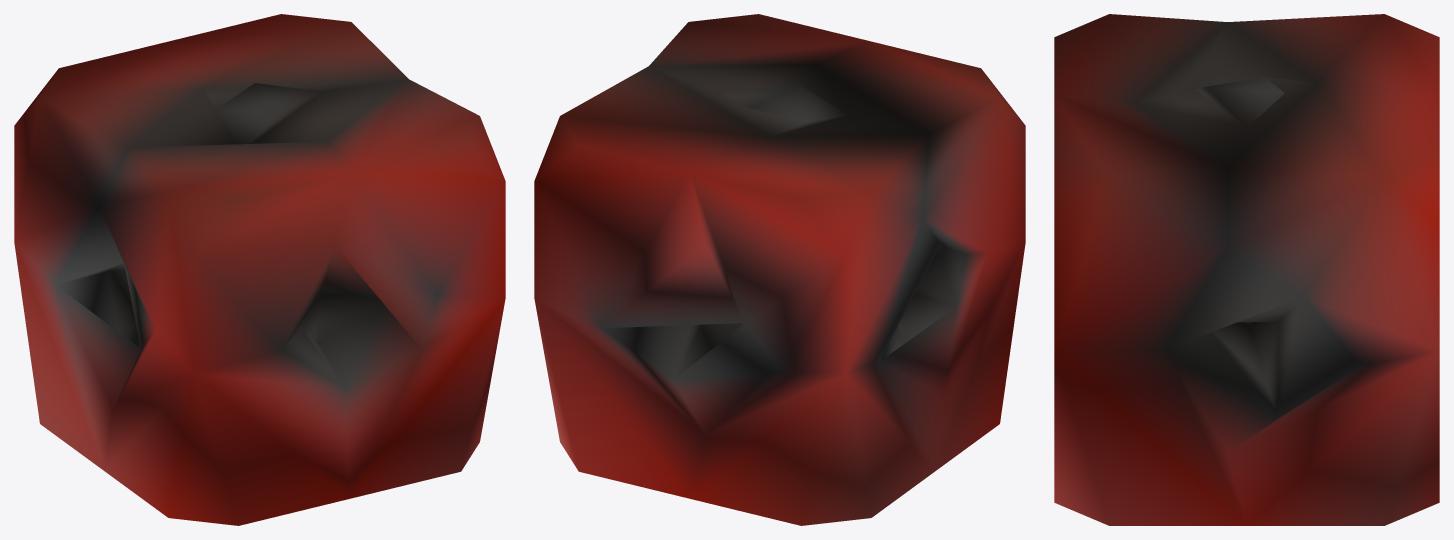
The model's file is solar_box_lod6.glb.
The picture shows the model from 3 angles, left to right: view 1: azimuth 30°, elevation 25°; view 2: azimuth 150°, elevation 25°; view 3: azimuth 270°, elevation 25°; orthographic projection. The views are drawn at different scales.
Visible parts, largest first — view 1: solar_box; view 2: solar_box; view 3: solar_box.
Boxes of the visible parts, x1=… form: solar_box: x1=14, y1=14, x2=505, y2=525; solar_box: x1=534, y1=14, x2=1025, y2=525; solar_box: x1=1054, y1=14, x2=1439, y2=525.
Bounding box in the file's own units: 2 × 2.05 × 2.
